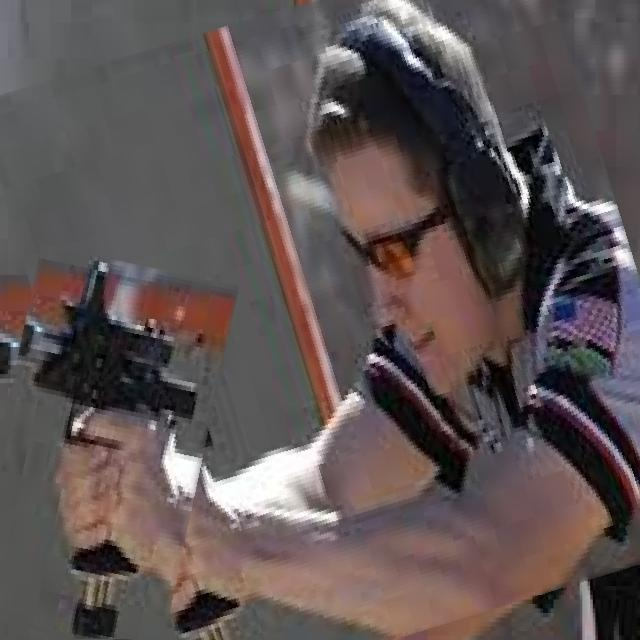Gun_Holder: (0, 238, 254, 624)
Person: (115, 0, 640, 640)
